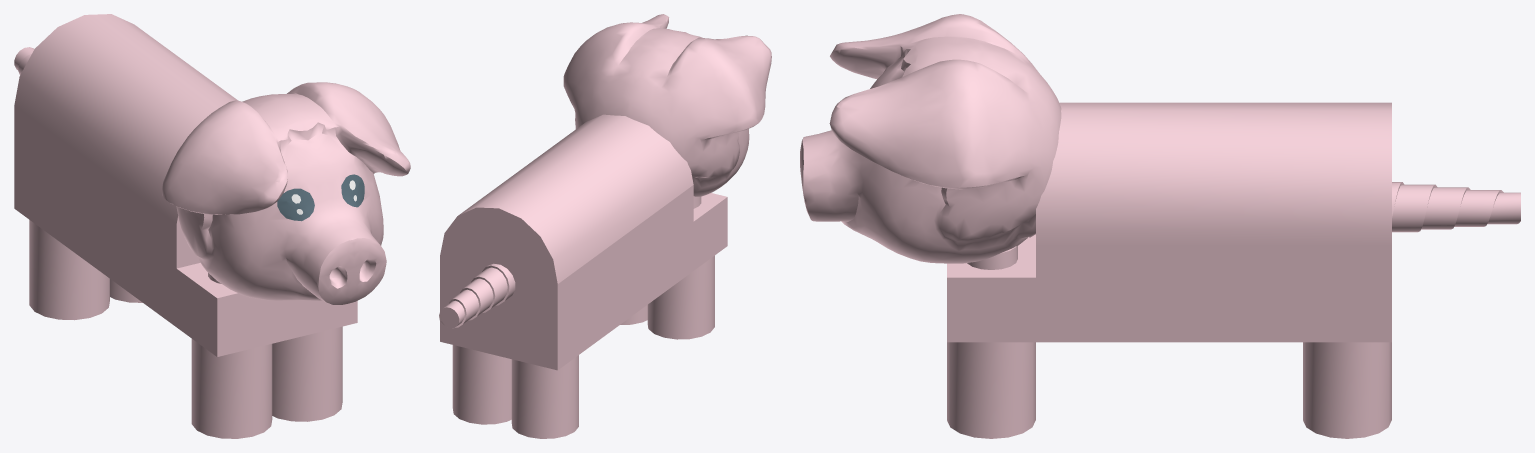
Rendered from pig.dae.
The picture shows the model from 3 angles, left to right: view 1: azimuth 30°, elevation 25°; view 2: azimuth 150°, elevation 25°; view 3: azimuth 270°, elevation 25°; orthographic projection. The views are drawn at different scales.
Parts seen in each view (by area): view 1: Object, Object.010, Object.001, Object.007, Object.002, Object.005, Object.008, Object.009; view 2: Object.010, Object, Object.001, Object.005, Object.006, Object.007, Object.011, Object.009, Object.008; view 3: Object.010, Object, Object.001, Object.006, Object.002, Object.011, Object.009, Object.008.
Part boxes in pixels (x1=…): Object: x1=162, y1=82, x2=410, y2=304; Object.010: x1=14, y1=14, x2=237, y2=238; Object.001: x1=14, y1=120, x2=200, y2=326; Object.007: x1=191, y1=339, x2=272, y2=438; Object.002: x1=272, y1=326, x2=342, y2=421; Object.005: x1=29, y1=220, x2=109, y2=320; Object.008: x1=176, y1=298, x2=357, y2=356; Object.009: x1=176, y1=263, x2=323, y2=327; Object.010: x1=440, y1=114, x2=693, y2=296; Object: x1=563, y1=14, x2=771, y2=196; Object.001: x1=440, y1=197, x2=693, y2=370; Object.005: x1=511, y1=355, x2=578, y2=438; Object.006: x1=452, y1=345, x2=511, y2=424; Object.007: x1=647, y1=255, x2=714, y2=339; Object.011: x1=439, y1=263, x2=515, y2=328; Object.009: x1=693, y1=193, x2=727, y2=245; Object.008: x1=693, y1=222, x2=727, y2=270; Object.010: x1=1036, y1=102, x2=1391, y2=245; Object: x1=800, y1=14, x2=1061, y2=263; Object.001: x1=1036, y1=245, x2=1391, y2=342; Object.006: x1=1303, y1=342, x2=1391, y2=438; Object.002: x1=947, y1=342, x2=1035, y2=438; Object.011: x1=1392, y1=182, x2=1520, y2=232; Object.009: x1=947, y1=234, x2=1035, y2=309; Object.008: x1=947, y1=310, x2=1035, y2=342.
Bounding box in the file's own units: 0.0259 × 0.0648 × 0.0358.
